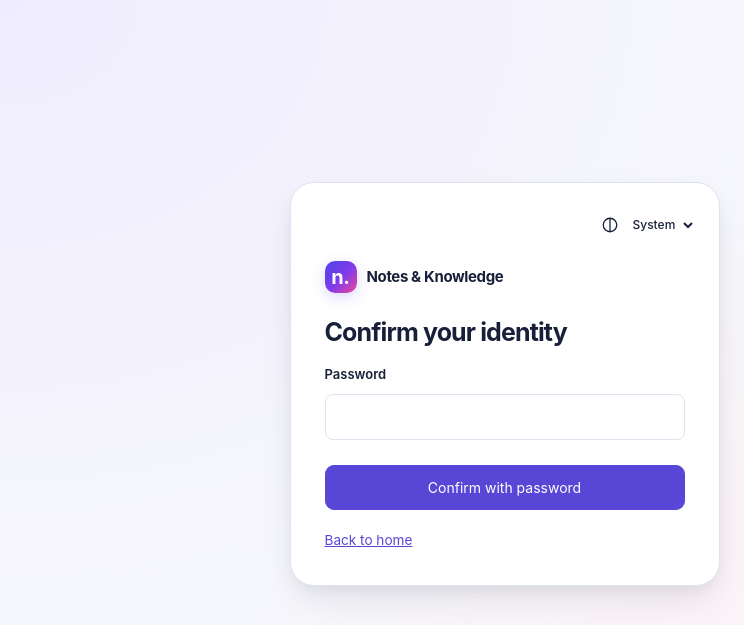
authentication browser journey › sends no email in password recent authentication
This screenshot has width=744, height=625.
Expected: the heading "Confirm your identity" is shown, [324,317,567,347]
Type "Synthetic-password-123!" into the password field labelled "Password".
click(504, 417); type("Synthetic-password-123!")  # box [324,394,684,440]
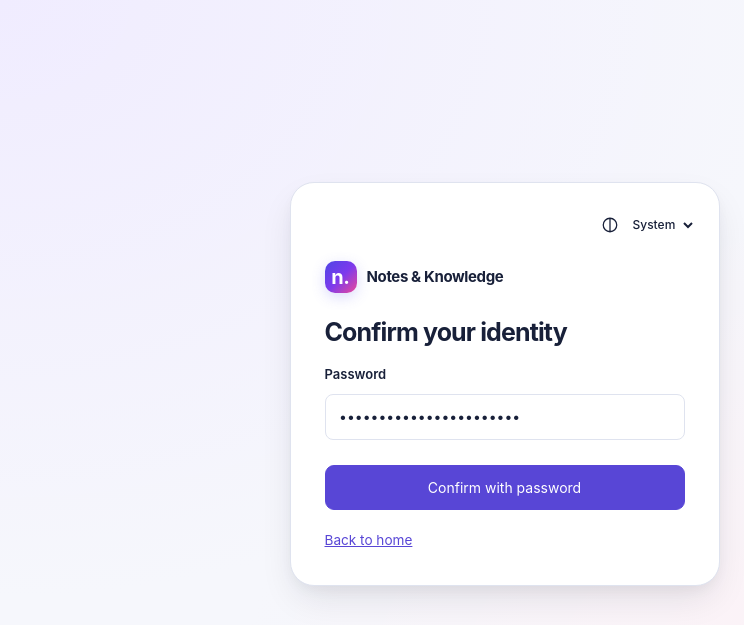
Click the button "Confirm with password".
click(504, 488)  # box [324,465,684,510]
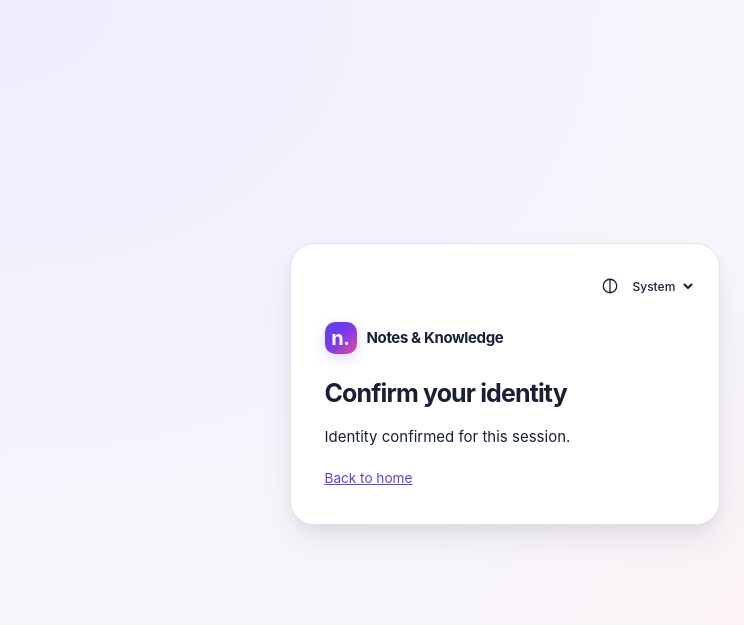
Now the text "Identity confirmed for this session." is shown, box [324,427,570,446]
